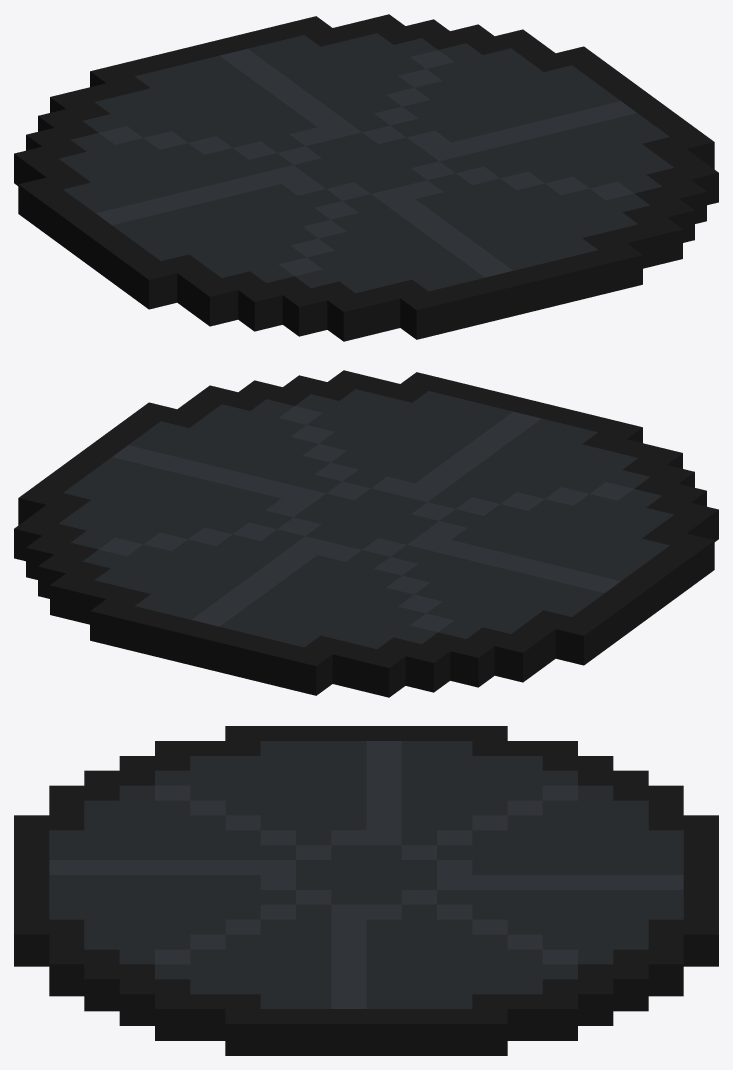
Rendered from Hatch.obj.
The picture shows the model from 3 angles, top to bottom: view 1: azimuth 30°, elevation 25°; view 2: azimuth 150°, elevation 25°; view 3: azimuth 270°, elevation 25°; orthographic projection. The views are drawn at different scales.
Bounding box in the file's own units: 2 × 0.1 × 2.
Materials: 1 (1 with a texture image).
